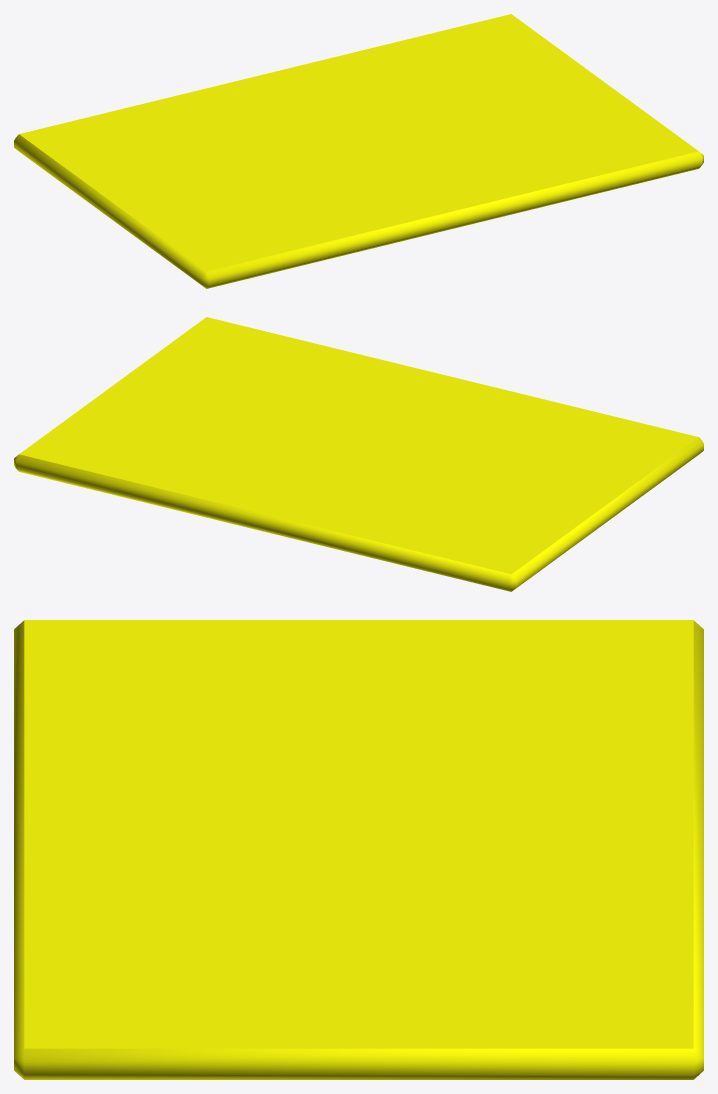
Rendered from kaykit-rug-rectangle-stripes-a.glb.
3 views of the same model, one above another, from view 1: azimuth 30°, elevation 25°; view 2: azimuth 150°, elevation 25°; view 3: azimuth 270°, elevation 25° (orthographic). The views are drawn at different scales.
Visible parts, largest first — view 1: rug_rectangle_stripes_A; view 2: rug_rectangle_stripes_A; view 3: rug_rectangle_stripes_A.
Part boxes in pixels (x1=…): rug_rectangle_stripes_A: x1=14, y1=14, x2=703, y2=288; rug_rectangle_stripes_A: x1=14, y1=317, x2=703, y2=591; rug_rectangle_stripes_A: x1=14, y1=620, x2=703, y2=1079.
Bounding box in the file's own units: 3 × 0.1 × 2.
